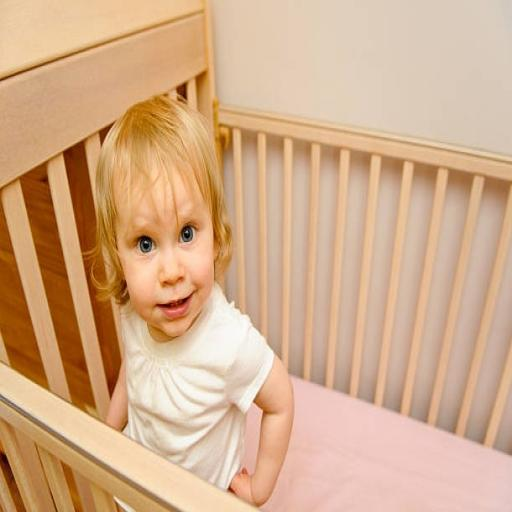baby: (97, 97, 293, 505)
crib: (0, 0, 511, 510)
